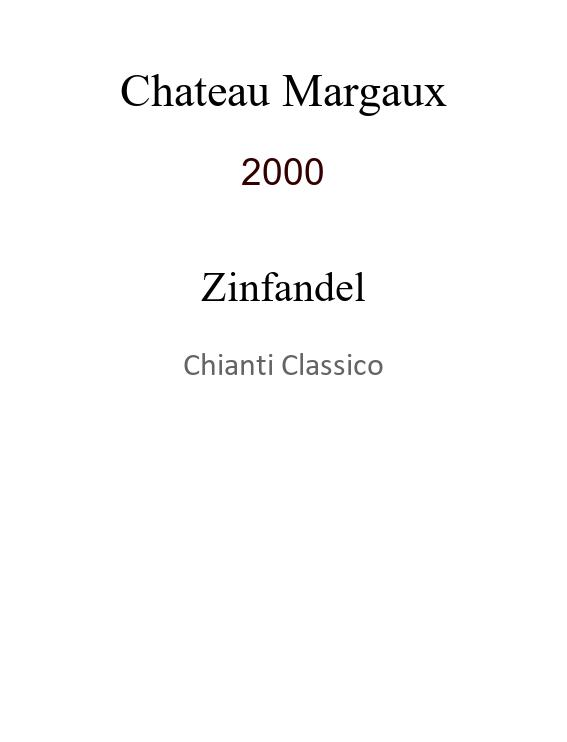brand: (120, 65, 447, 107)
region: (183, 351, 384, 373)
variety: (201, 263, 366, 292)
vintage: (241, 151, 325, 178)
